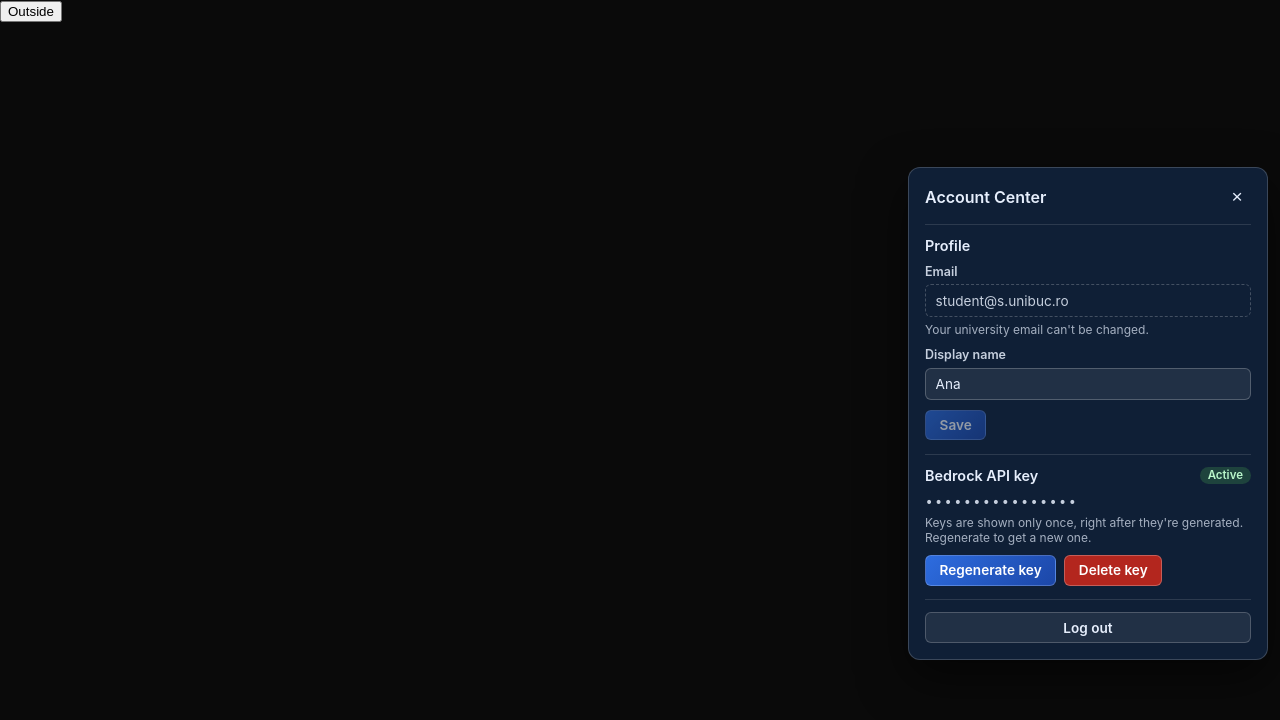
AccountCenter API key › asks for confirmation before regenerating an existing key
Click the button "Regenerate key" at [991, 570], box [925,555,1056,586]
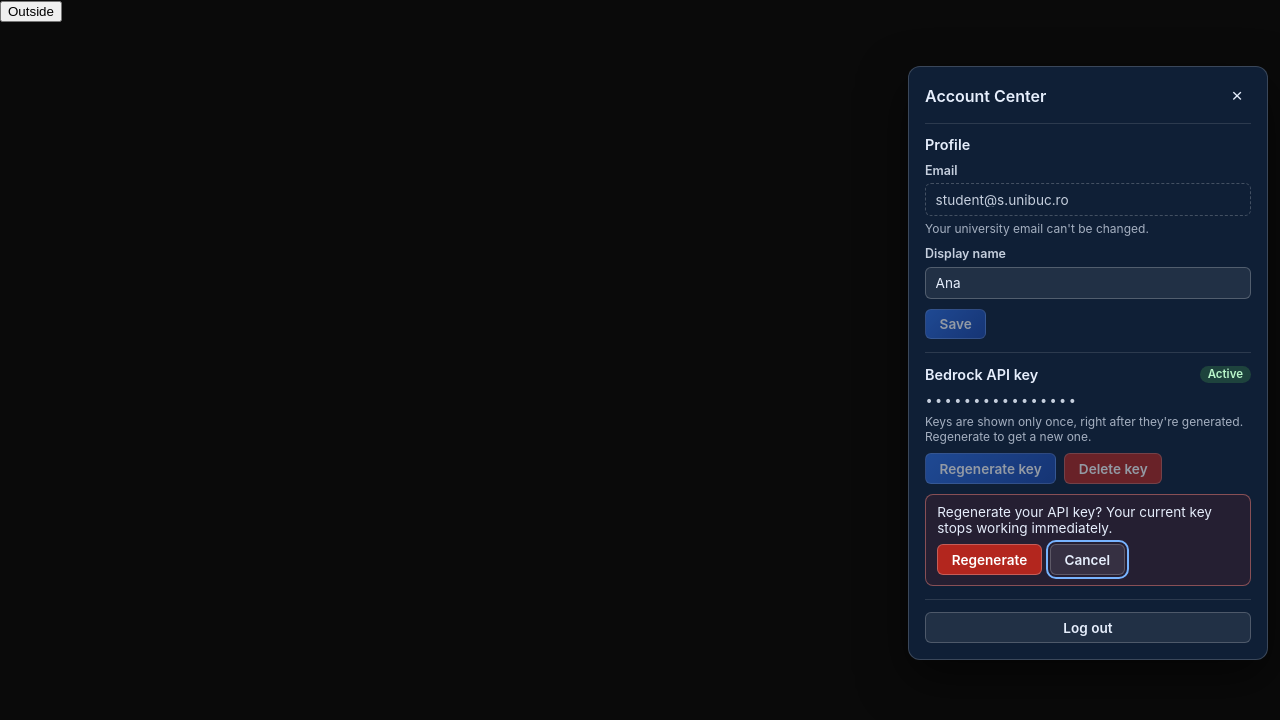
Click the button "Cancel" at [1087, 560], box [1050,544,1125,575]
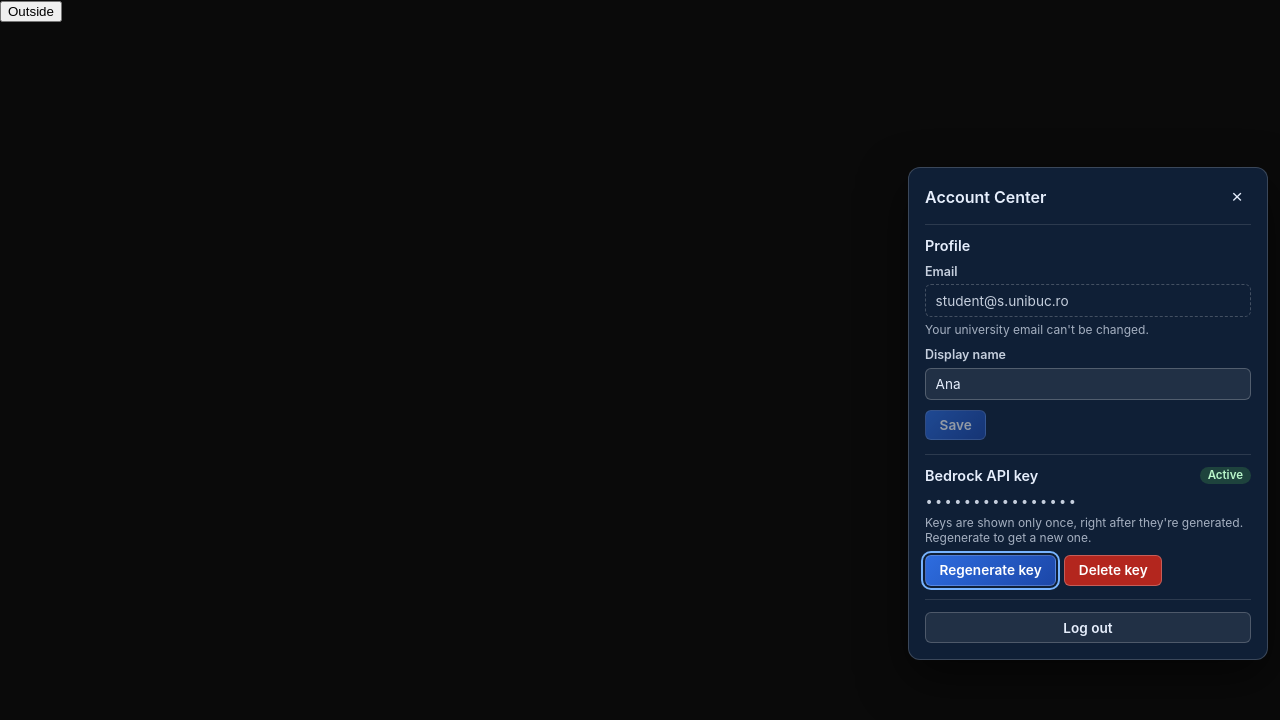
Click the button "Regenerate key" at [991, 570], box [925,555,1056,586]
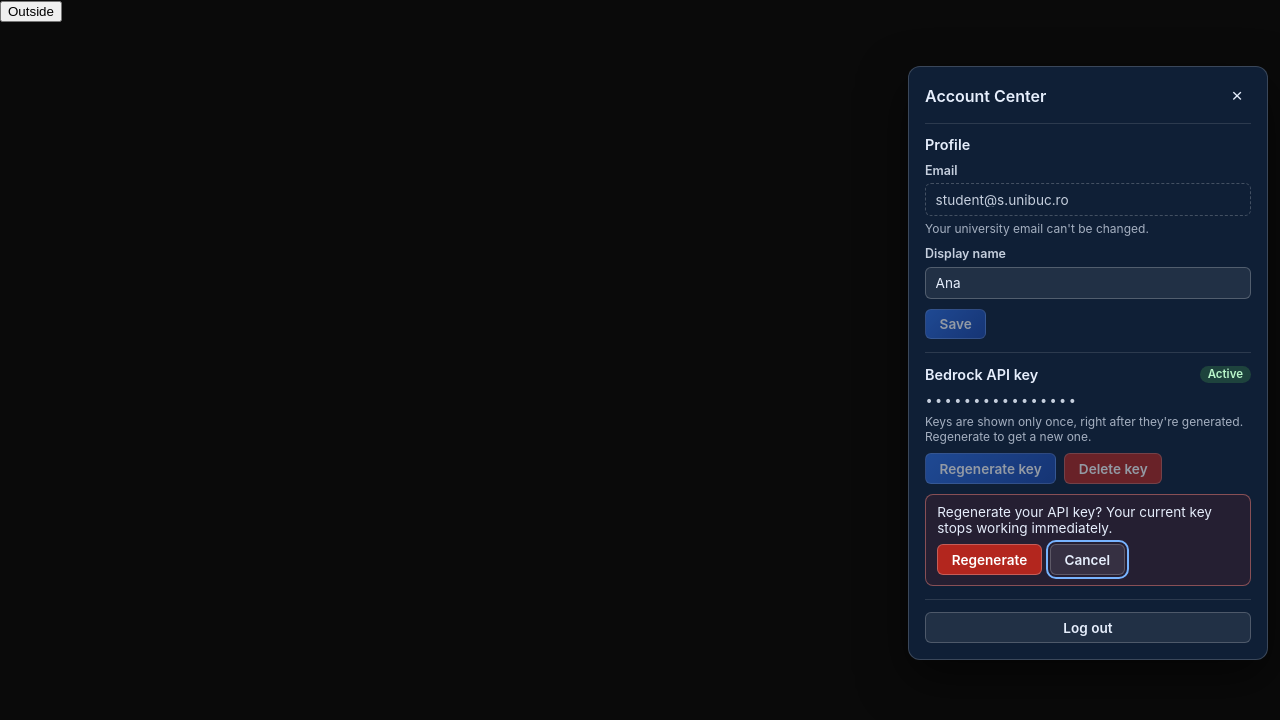
Click the button "Regenerate" at [990, 560], box [937,544,1042,575]
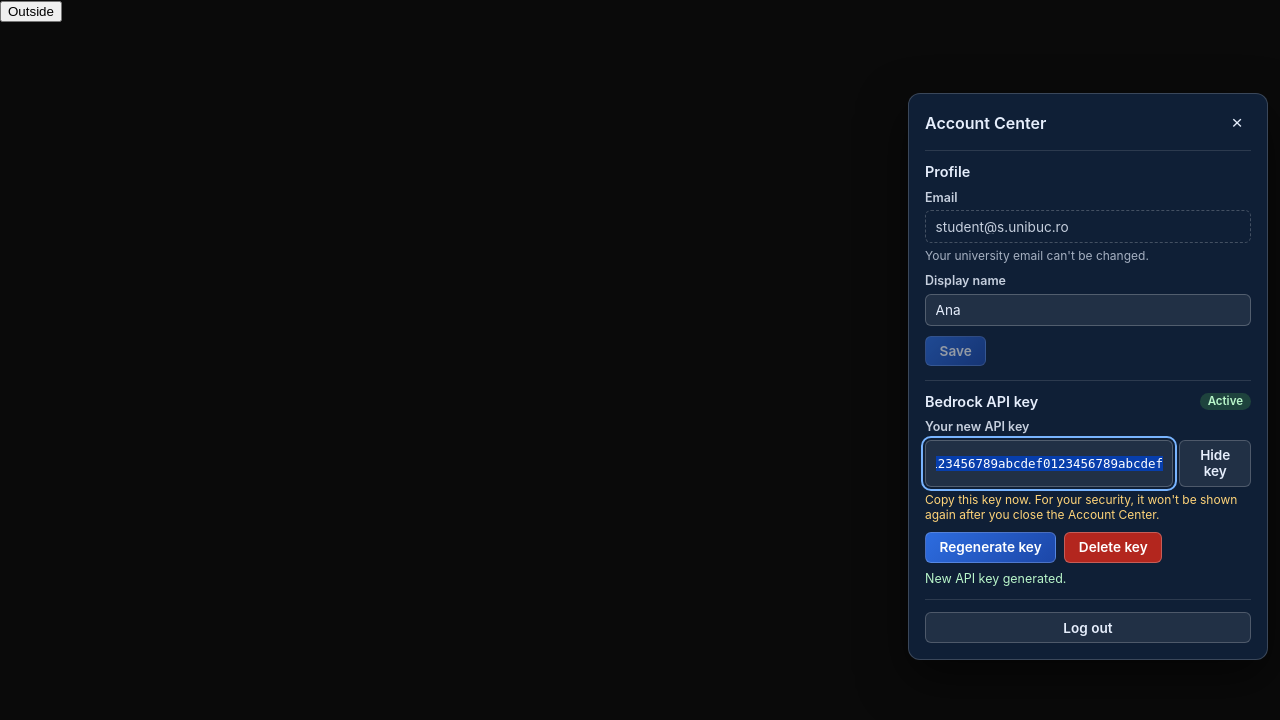
Expected: the element with test id "account-center-api-key-masked" is gone
